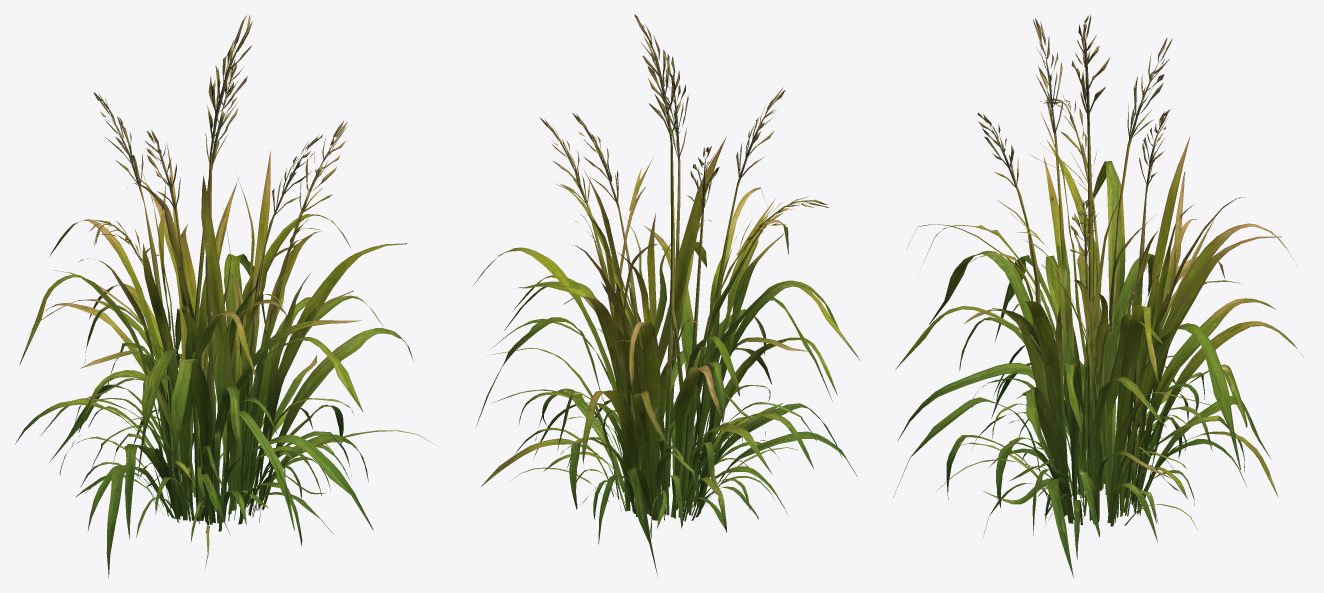
Rendered from Yuyos_1_LOD1.glb.
3 renders of one model, left to right at view 1: azimuth 30°, elevation 25°; view 2: azimuth 150°, elevation 25°; view 3: azimuth 270°, elevation 25°, orthographic. The views are drawn at different scales.
Parts seen in each view (by area): view 1: tripo_node_e254b9e8-654f-4027-8854-1ef270dcddd6; view 2: tripo_node_e254b9e8-654f-4027-8854-1ef270dcddd6; view 3: tripo_node_e254b9e8-654f-4027-8854-1ef270dcddd6.
Boxes of the visible parts, x1=… form: tripo_node_e254b9e8-654f-4027-8854-1ef270dcddd6: x1=15, y1=15, x2=436, y2=577; tripo_node_e254b9e8-654f-4027-8854-1ef270dcddd6: x1=473, y1=14, x2=860, y2=576; tripo_node_e254b9e8-654f-4027-8854-1ef270dcddd6: x1=893, y1=14, x2=1303, y2=577.
Bounding box in the file's own units: 0.7925 × 0.987 × 0.7312.
1 material, 1 textured.
